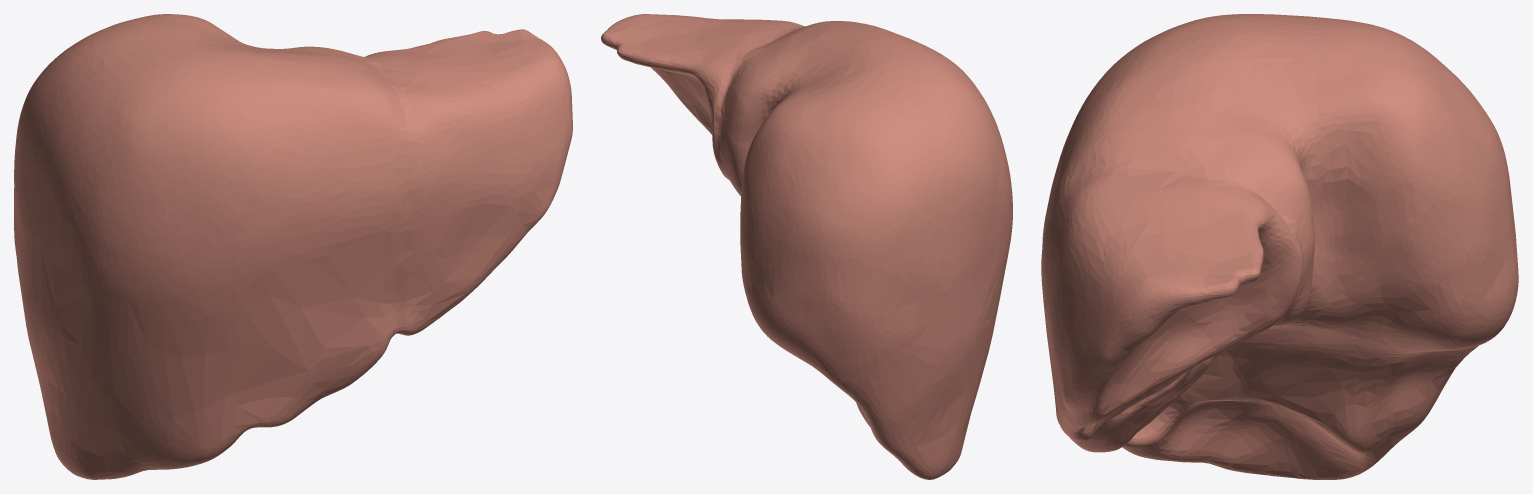
3 views of the same model, side by side, from view 1: azimuth 30°, elevation 25°; view 2: azimuth 150°, elevation 25°; view 3: azimuth 270°, elevation 25° (orthographic). The views are drawn at different scales.
Parts seen in each view (by area): view 1: FMA7197.stl; view 2: FMA7197.stl; view 3: FMA7197.stl.
Part boxes in pixels (x1,y1,x2,y2): FMA7197.stl: (14,14,572,479); FMA7197.stl: (601,14,1012,479); FMA7197.stl: (1041,14,1518,479).
Size of the model in its own units: 199 by 174 by 150.
